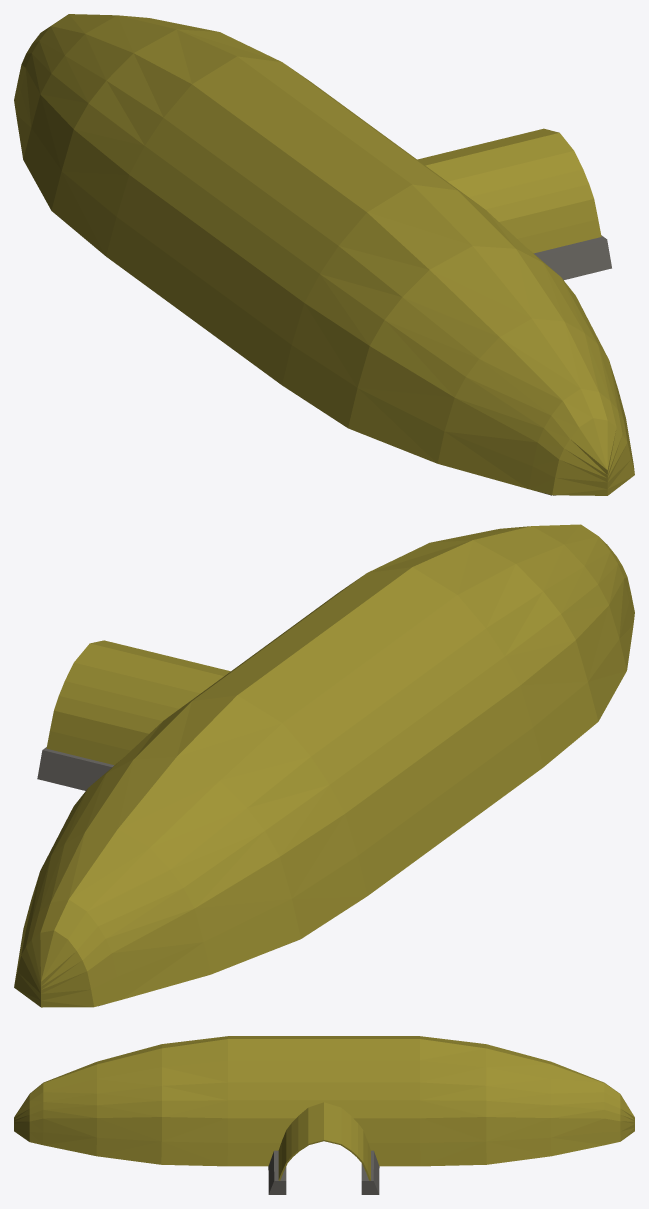
File: Strohhaus 1.fbx
3 renders of one model, top to bottom at view 1: azimuth 30°, elevation 25°; view 2: azimuth 150°, elevation 25°; view 3: azimuth 270°, elevation 25°, orthographic. The views are drawn at different scales.
Parts seen in each view (by area): view 1: Strohhaus 1; view 2: Strohhaus 1; view 3: Strohhaus 1.
Part boxes in pixels (x1,y1,x2,y2): Strohhaus 1: (14, 14, 634, 495); Strohhaus 1: (14, 524, 634, 1007); Strohhaus 1: (14, 1036, 634, 1194).
Bounding box in the file's own units: 411 × 180 × 1097.
